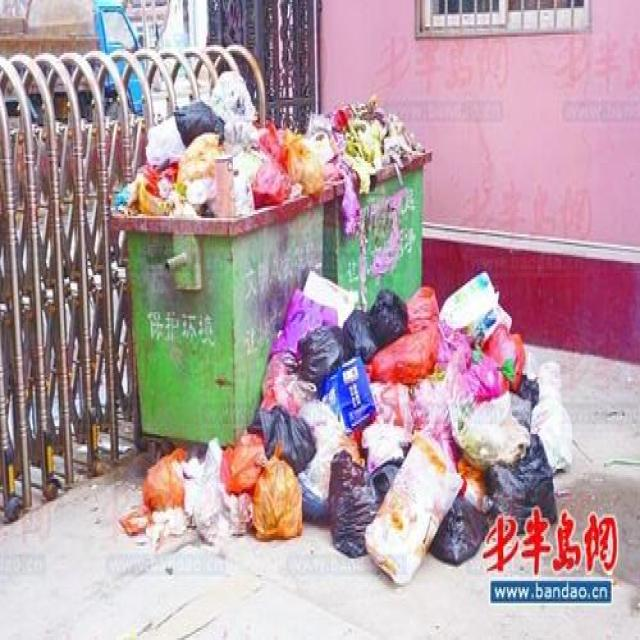garbage: (118, 269, 568, 587)
overflow: (109, 70, 333, 444), (322, 98, 432, 304)
